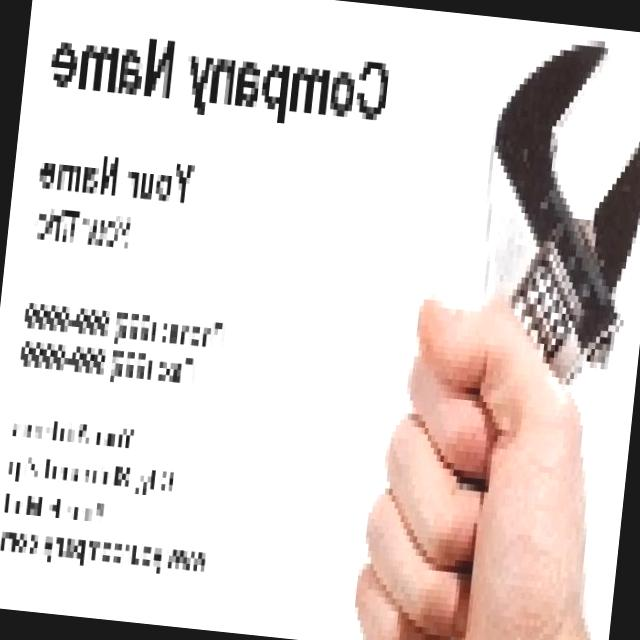wrench: (485, 42, 640, 384)
